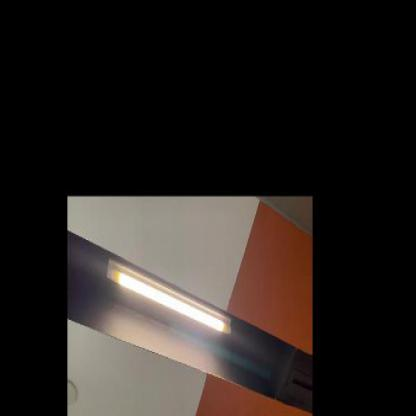light_on: (102, 247, 236, 346)
